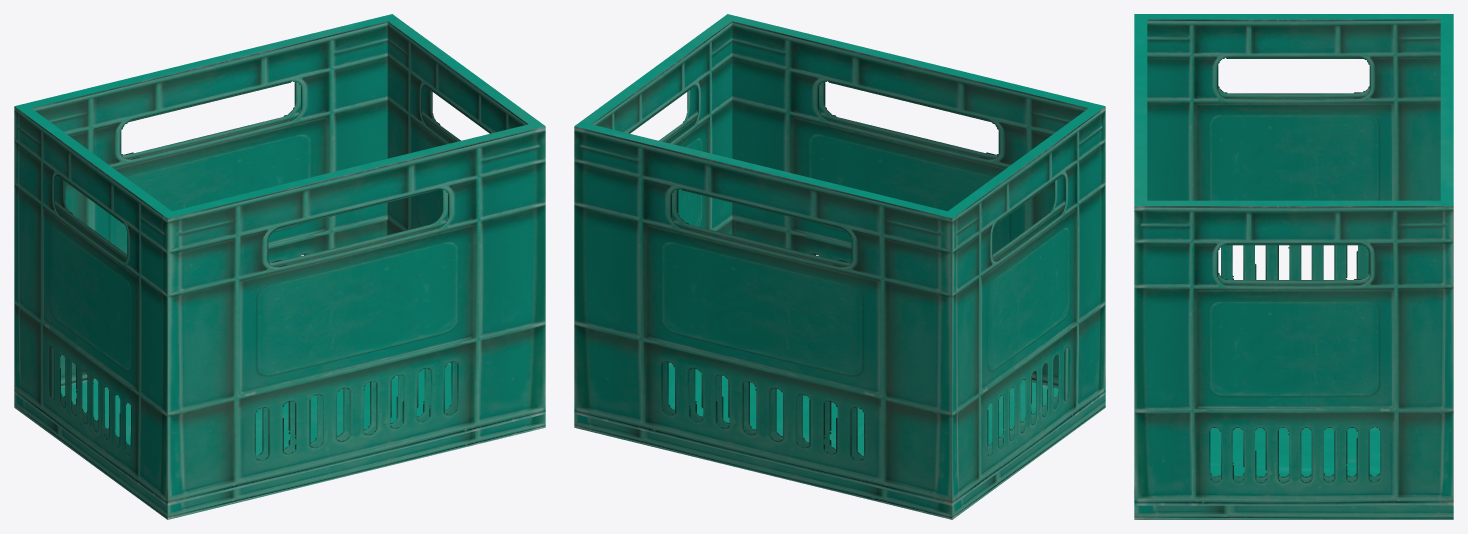
Rendered from cargo-box02.fbx.
3 renders of one model, left to right at view 1: azimuth 30°, elevation 25°; view 2: azimuth 150°, elevation 25°; view 3: azimuth 270°, elevation 25°, orthographic. The views are drawn at different scales.
Visible parts, largest first — view 1: Mesh; view 2: Mesh; view 3: Mesh.
Part boxes in pixels (x1,y1,x2,y2): Mesh: (14, 14, 545, 519); Mesh: (574, 14, 1105, 519); Mesh: (1134, 14, 1453, 519).
Bounding box in the file's own units: 70.45 × 53.68 × 49.49.
